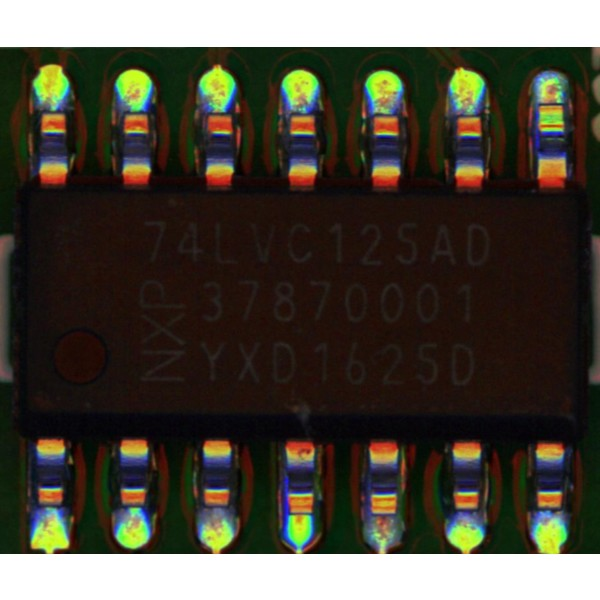Bad_podu: (541, 86, 563, 119), (289, 508, 312, 524)
